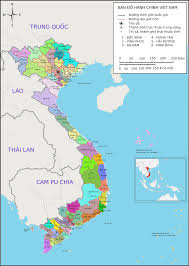Island: (133, 205, 188, 264), (134, 126, 161, 152)
